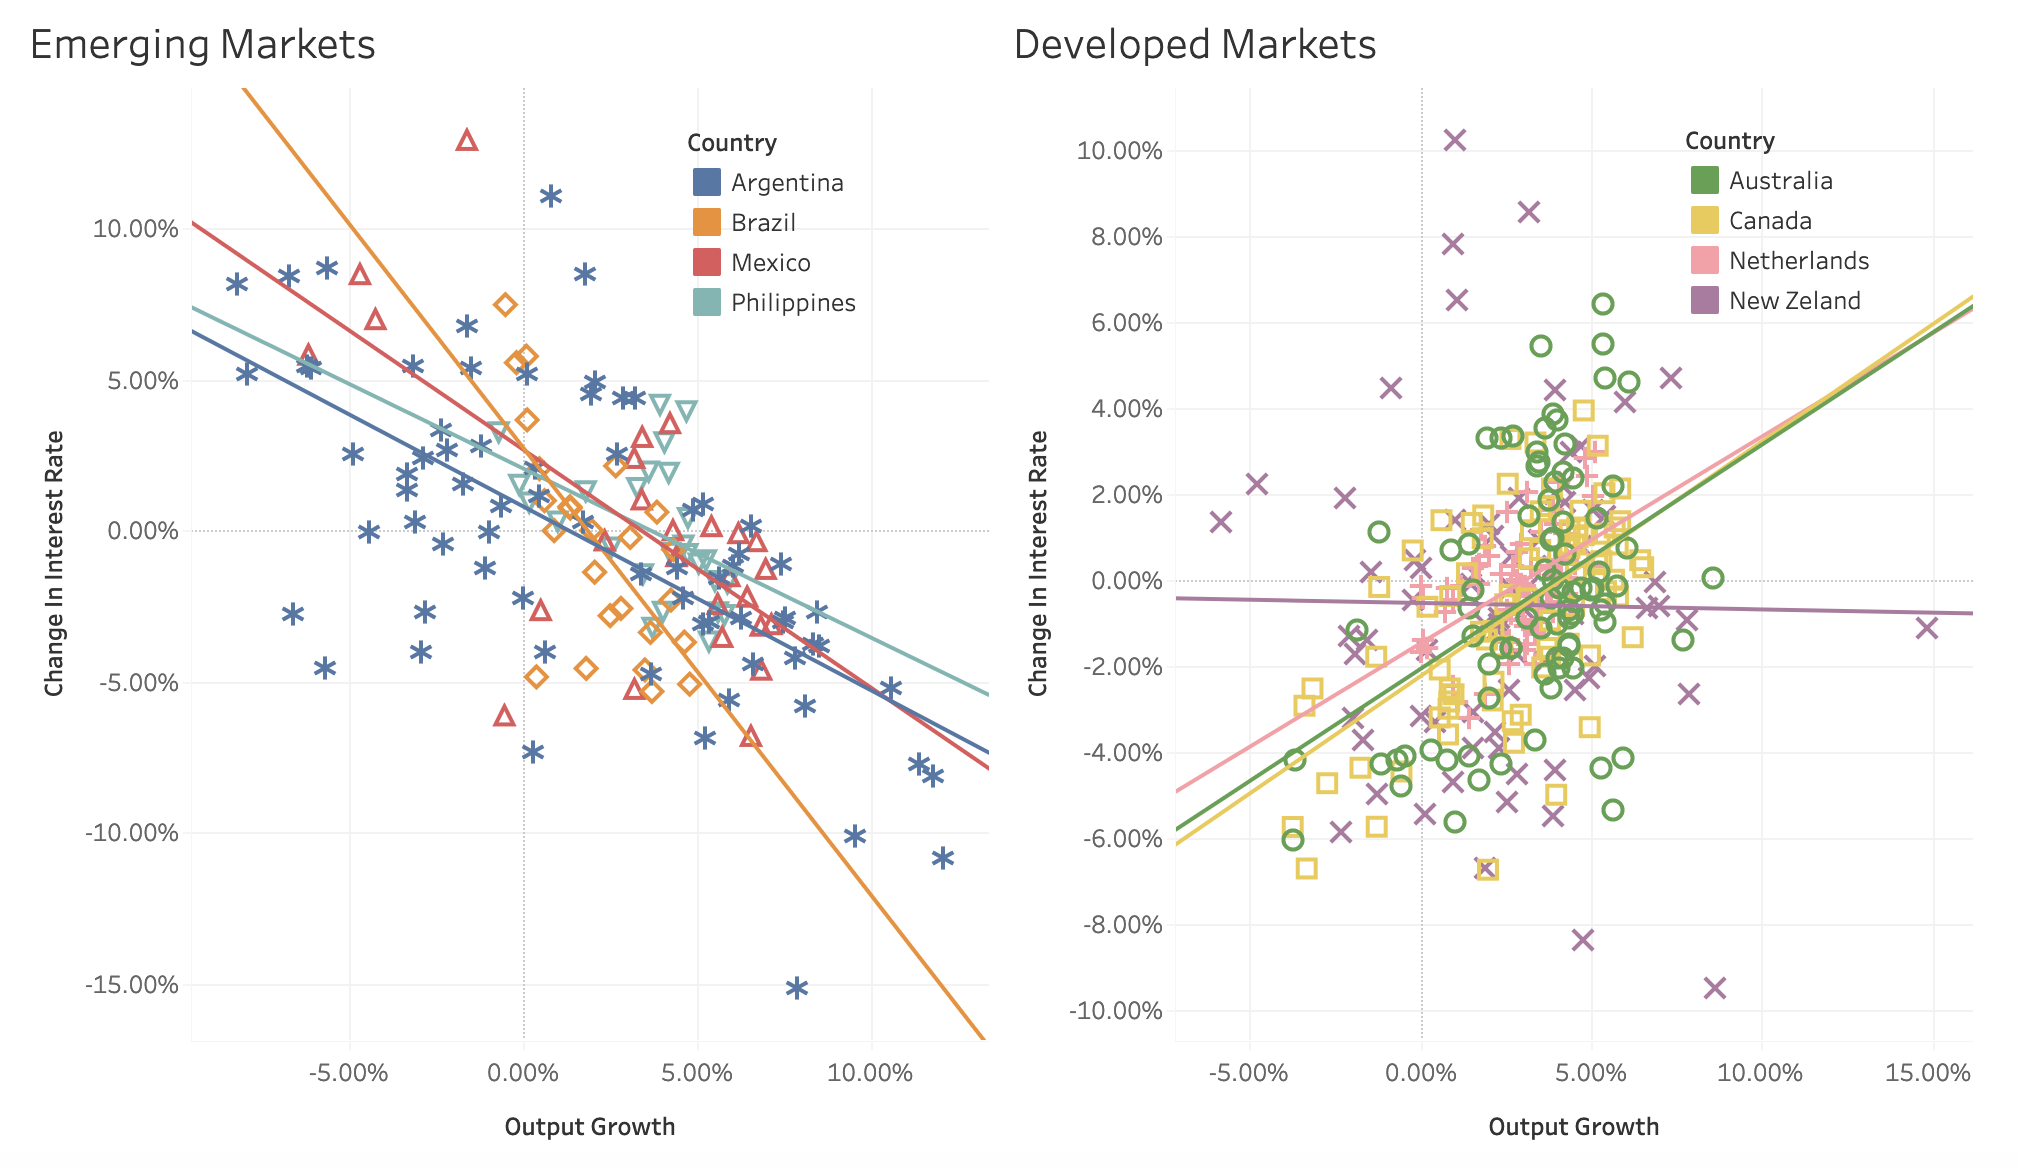

The page's visual inventory and layout, read from the dashboard file:
{"tool":"tableau","page":{"name":"Dashboard 1","canvas":[1000,600],"ordinal":0},"visuals":[{"type":"worksheet","title":"Emerging Markets","mark":"Automatic","rows":["Change In Interest Rate"],"cols":["Output Growth"],"box":[8,8,492,584]},{"type":"worksheet","title":"Developed Markets","mark":"Automatic","rows":["Change In Interest Rate"],"cols":["Output Growth"],"box":[500,8,492,584]},{"type":"legend","title":"Developed Markets","param":"[federated.0ml1dlr1awoue11boc3ke0zgl4mb].[none:Country:nk]","box":[844,72,140,98]},{"type":"legend","title":"Emerging Markets","param":"[federated.0ml1dlr1awoue11boc3ke0zgl4mb].[none:Country:nk]","box":[345,73,140,98]}]}

Visuals, with their boxes on the page's 1000x600 design canvas (x1, y1, x2, y2). These are canvas units, not pixel positions in the 2018x1168 screenshot, which may show the page scaled, cropped or inside an application window:
"Emerging Markets" worksheet: detection(8, 8, 500, 592)
"Developed Markets" worksheet: detection(500, 8, 992, 592)
"Developed Markets" legend: detection(844, 72, 984, 170)
"Emerging Markets" legend: detection(345, 73, 485, 171)
